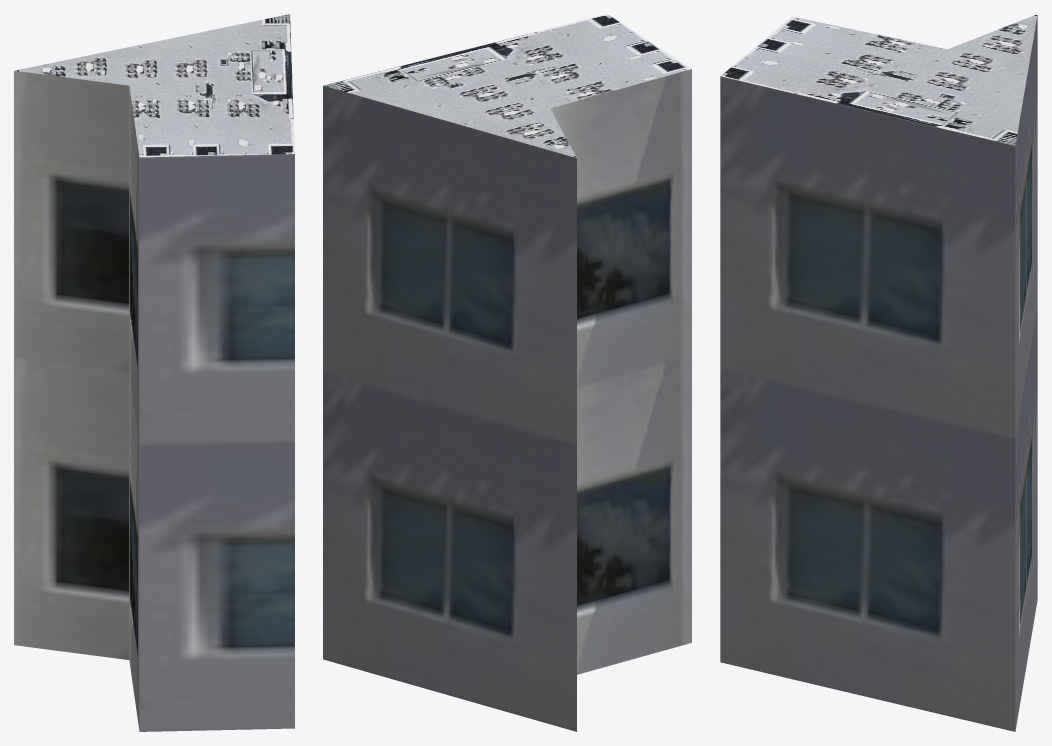
The model's file is ResTex__3989.fbx.
3 renders of one model, left to right at view 1: azimuth 30°, elevation 25°; view 2: azimuth 150°, elevation 25°; view 3: azimuth 270°, elevation 25°, orthographic. The views are drawn at different scales.
Visible parts, largest first — view 1: CityEngineMaterial_10_m, CityEngineMaterial_4_m; view 2: CityEngineMaterial_10_m, CityEngineMaterial_4_m; view 3: CityEngineMaterial_10_m, CityEngineMaterial_4_m.
Part boxes in pixels (<box>): CityEngineMaterial_10_m: <box>14,70,294,731</box>; CityEngineMaterial_4_m: <box>15,14,294,157</box>; CityEngineMaterial_10_m: <box>323,69,691,731</box>; CityEngineMaterial_4_m: <box>323,14,691,157</box>; CityEngineMaterial_10_m: <box>720,15,1037,731</box>; CityEngineMaterial_4_m: <box>721,14,1037,145</box>.
Size of the model in its own units: 2.9 by 6 by 2.94.
Materials: 2 (2 with a texture image).
